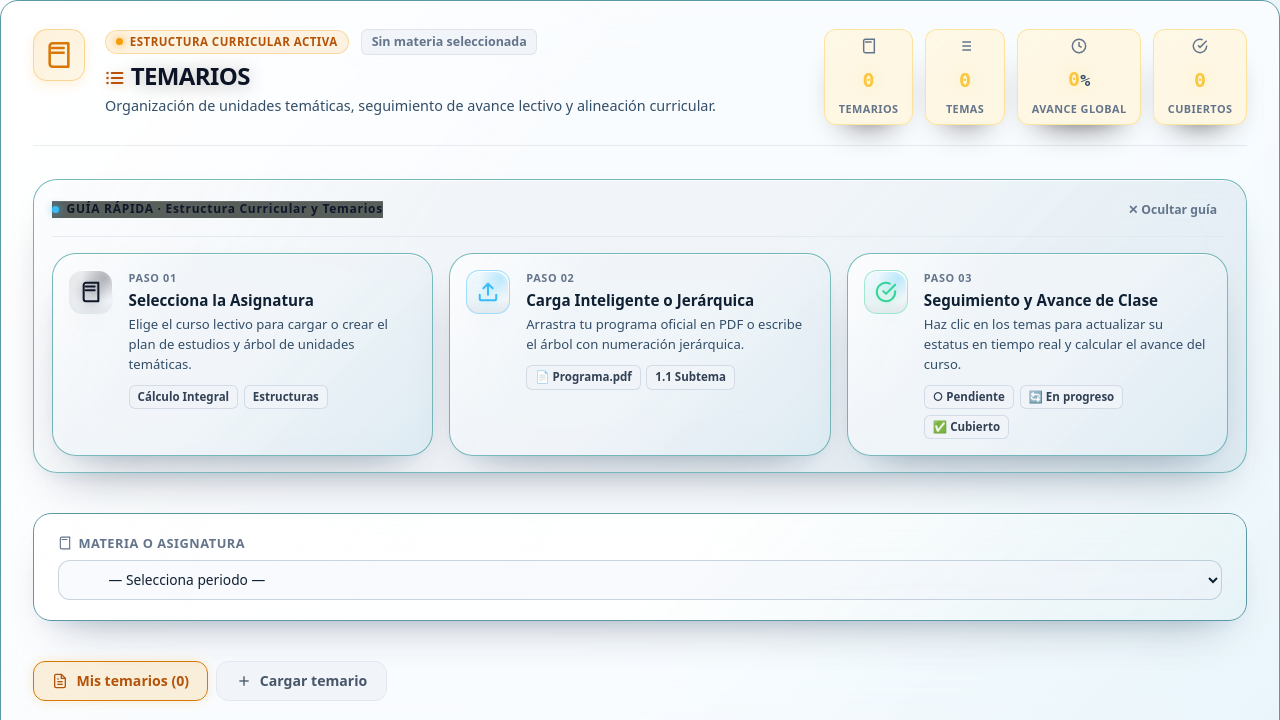
Test case: SeccionTemarios › permite cargar temarios de un periodo y navegar entre pestañas
Select "2026-A" in the dropdown at (640, 580), box [58,560,1222,600]
(page scrolled)
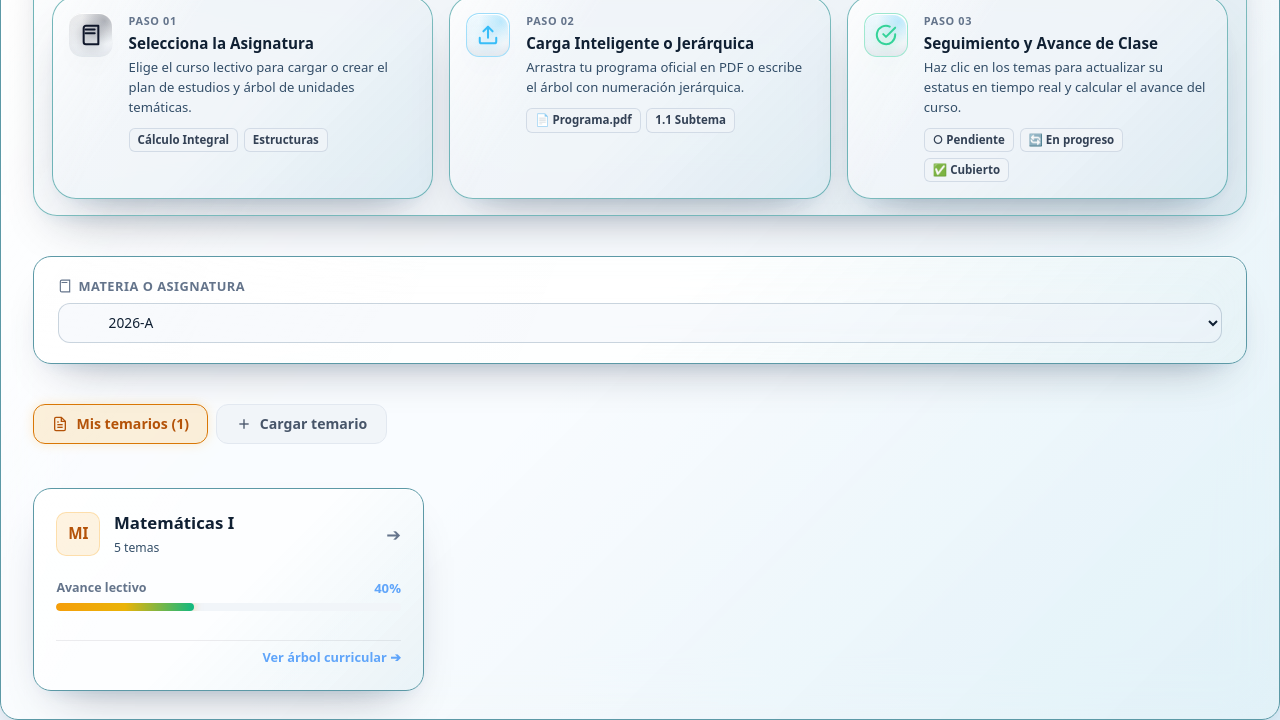
Now the text "Matemáticas I" is shown, box [114,511,234,535]
Now the text "40%" is shown, box [374,579,401,597]
